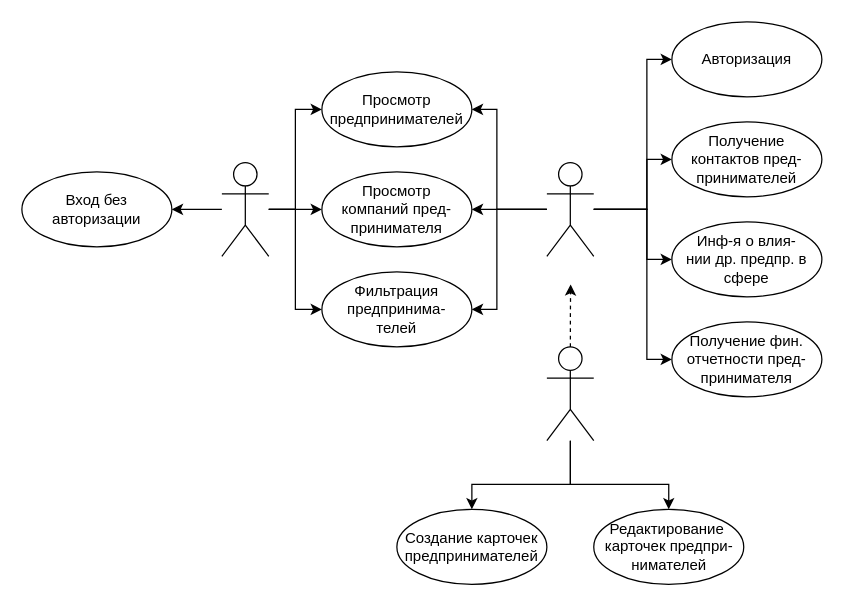
Image size: 844x606. Some labels were removed from this diagram. The box of each missing label's shape, as (x1, y1, x2, y2) in pixels:
Администратор: (546, 346, 594, 441)
Гость: (221, 161, 269, 256)
Предприниматель: (546, 161, 594, 256)
